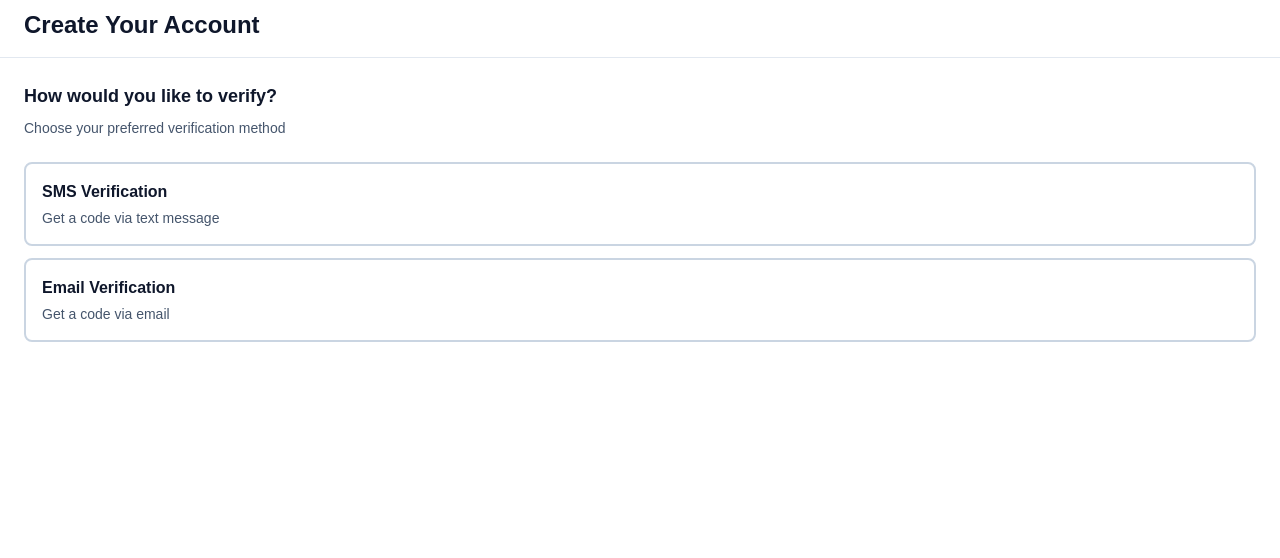
it: Customer Signup Page › Details Form Step › allows back navigation to channel selection
Click the button "SMS Verification" at [105, 192], box x1=24 y1=162 x2=1256 y2=246
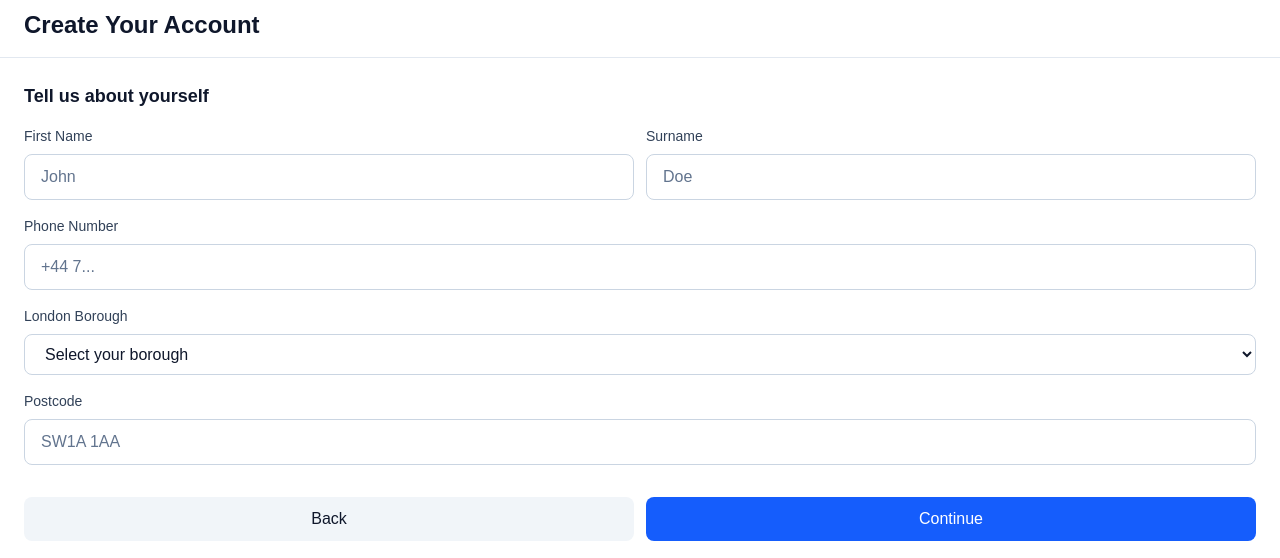
Check: the heading "Tell us about yourself" is shown, box x1=24 y1=86 x2=209 y2=106
Click the button "Back" at [329, 519], box x1=24 y1=497 x2=634 y2=541
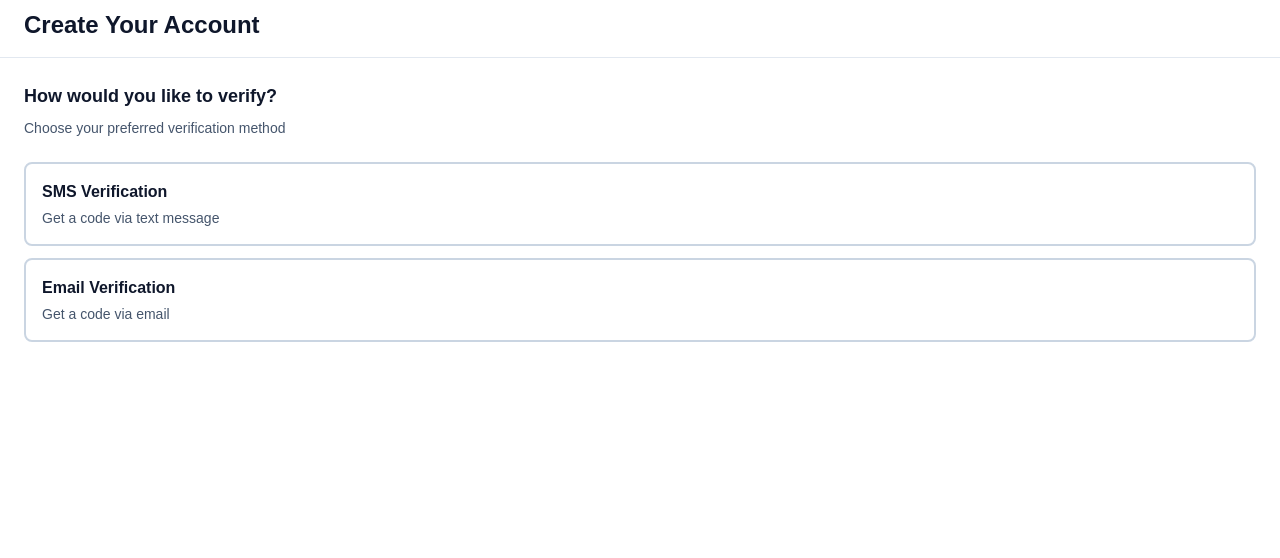
Check: the heading "How would you like to verify?" is shown, box x1=24 y1=86 x2=277 y2=106
